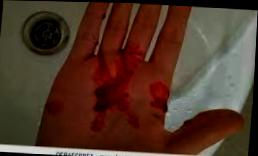Fire: (91, 45, 140, 131), (150, 81, 169, 111), (44, 99, 62, 114)
